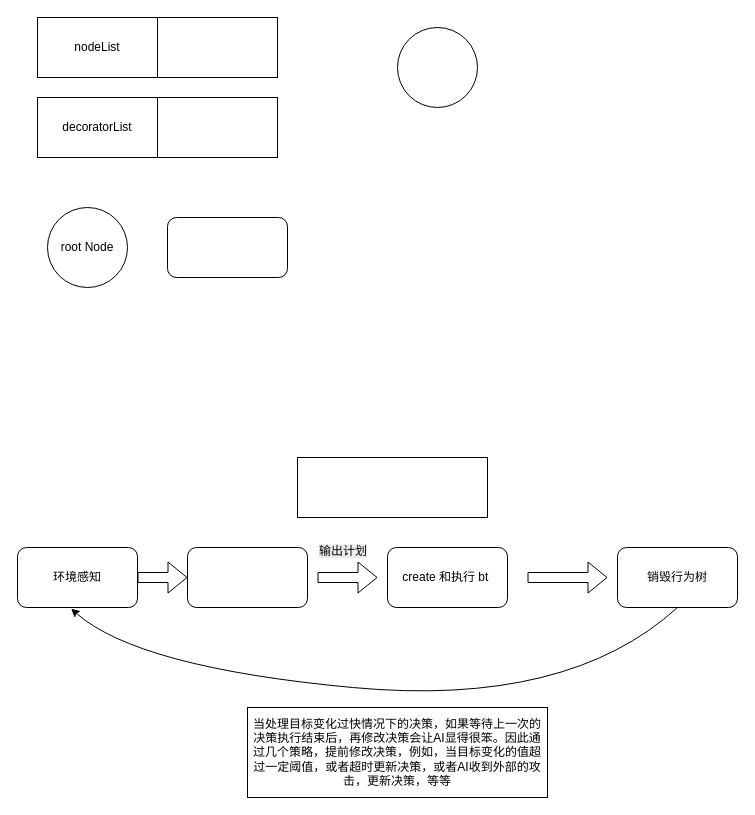
The diagram is 755 pixels wide and 815 high, and some of its shapes have lost their labels. Each missing label, with the box of its shape:
nodeFactory: (166, 216, 288, 278)
决策: (186, 546, 308, 608)
给AI的goap行为构建行为树，单次goap未完成之前，不会频繁更新: (296, 456, 488, 518)
